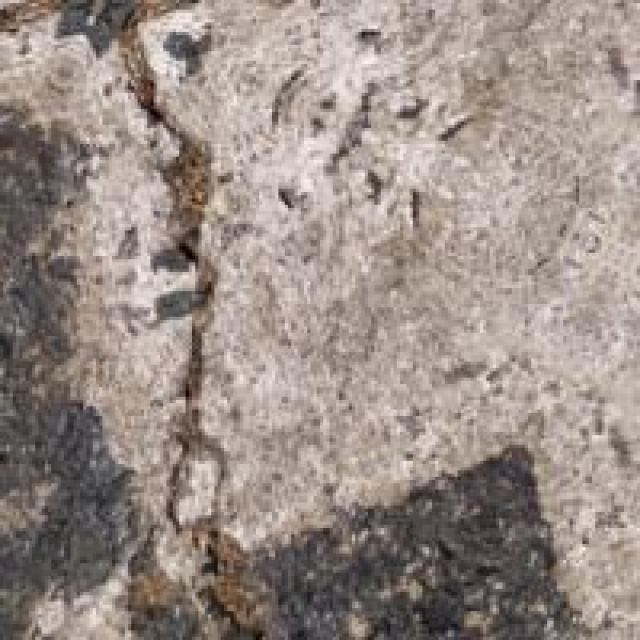Crack: (74, 23, 327, 532)
